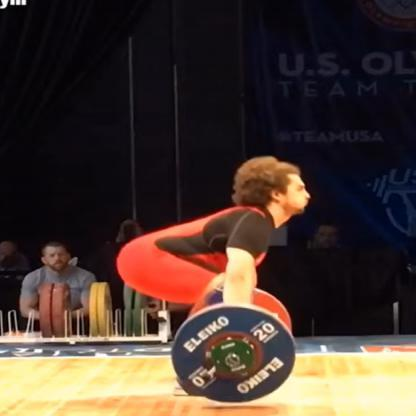Barbell: (208, 342, 256, 375)
